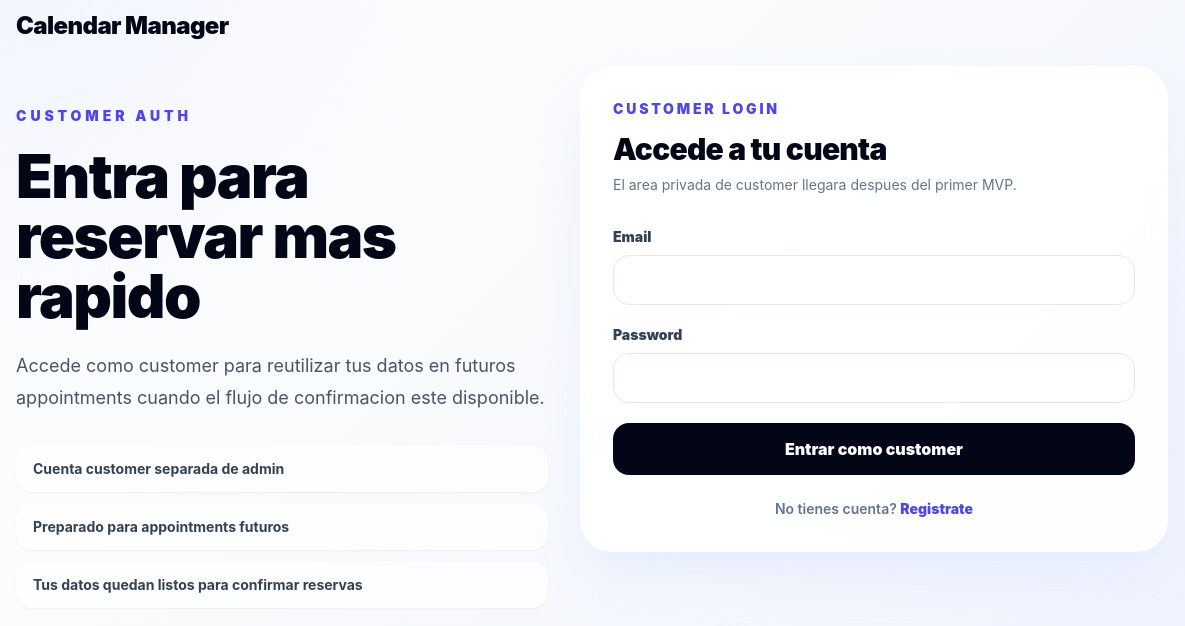
Scenario: auth pages › shows backend auth errors on customer login
This screenshot has width=1185, height=626.
Step 1. Type "customer@example.com" into the field labelled "Email" → {"x": 874, "y": 280}, box [613,255,1135,305]
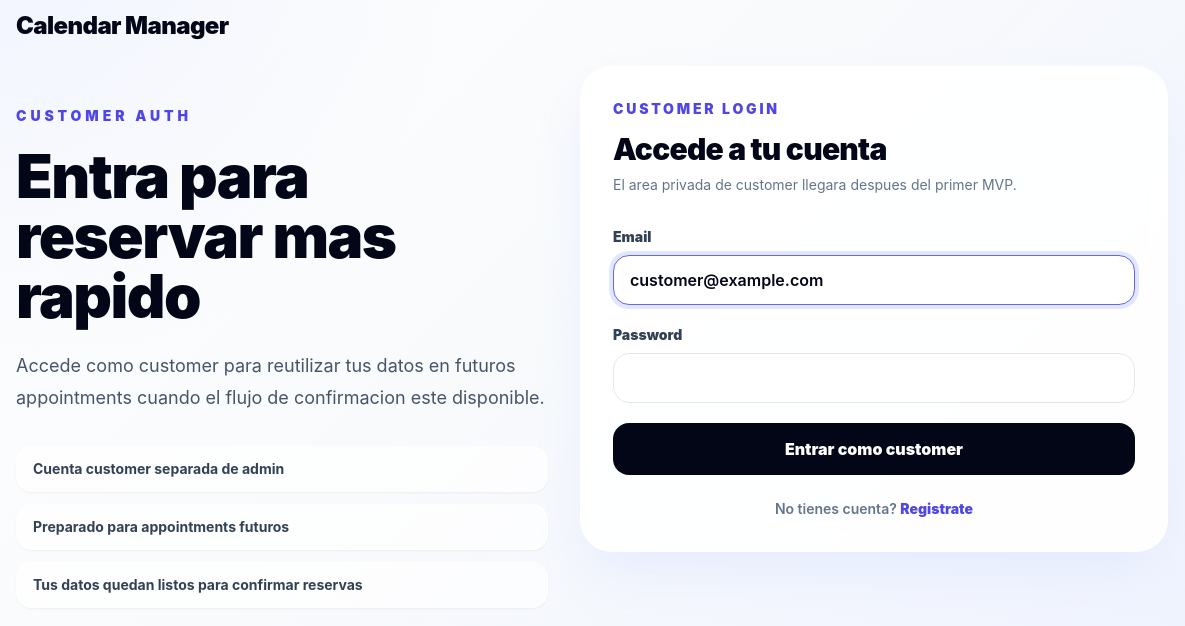
Step 2. Type "password123" into the password field labelled "Password" → {"x": 874, "y": 378}, box [613,353,1135,403]
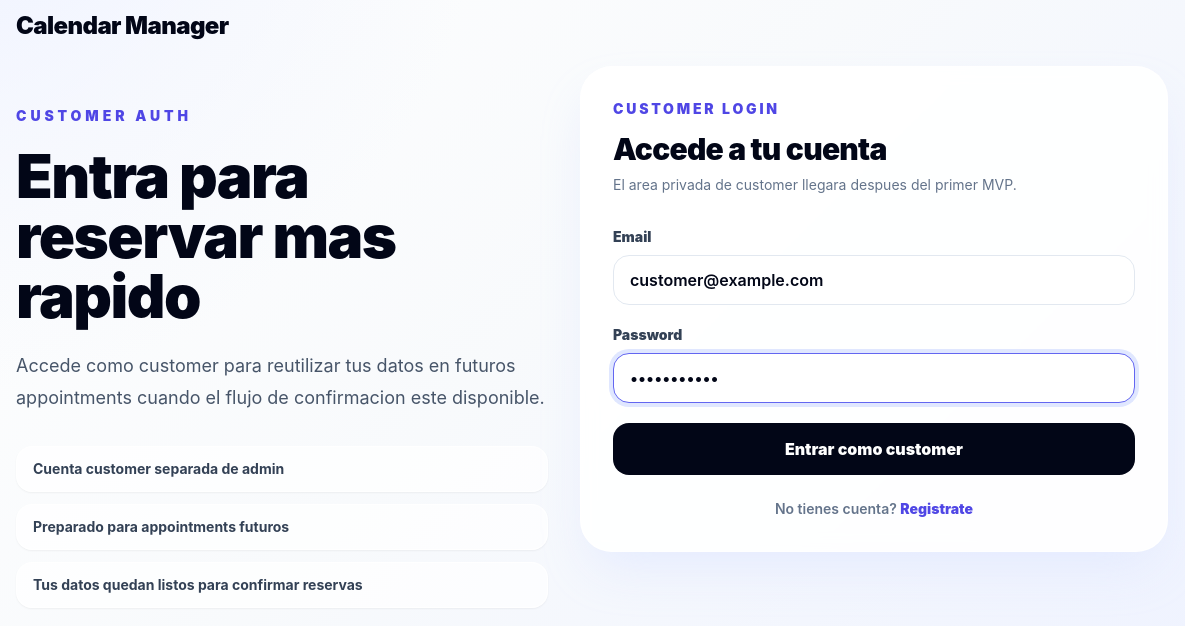
Step 3. Click the button "Entrar como customer" → {"x": 874, "y": 449}, box [613,423,1135,475]
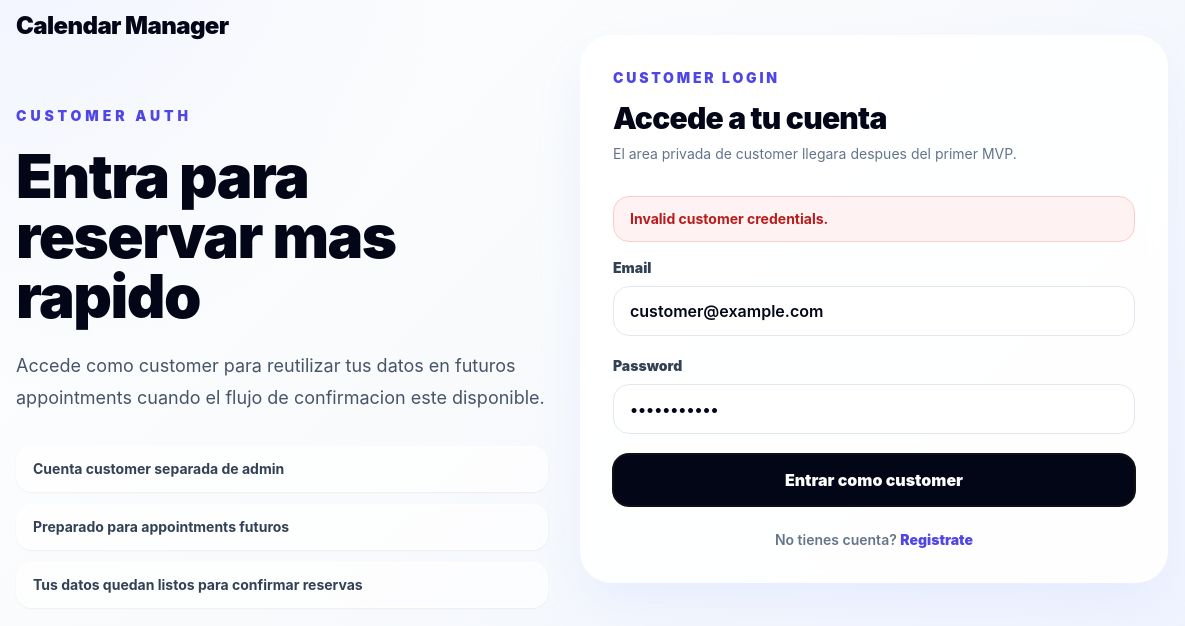
Check: the message reads "Invalid customer credentials.", box [630,210,828,227]
